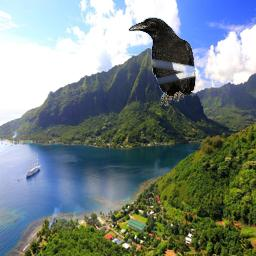Crow: (128, 17, 197, 106)
